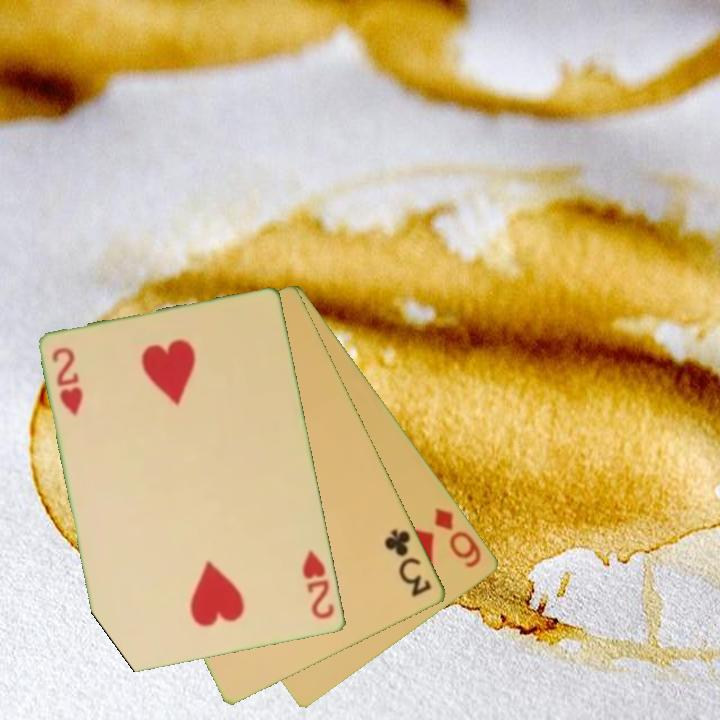2h: (299, 547, 338, 623), (49, 343, 87, 419)
3c: (381, 525, 435, 600)
6d: (431, 504, 485, 571)
